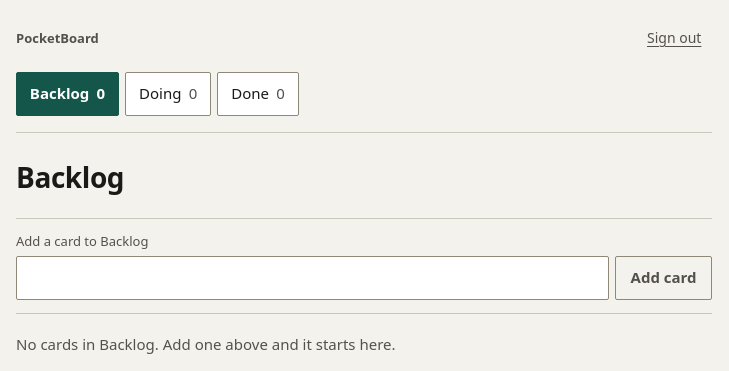
Test case: AuthGate › sends the CSRF token when signing out and re-checks the session
Click the button "Sign out" at (674, 38), box [636,16,712,60]
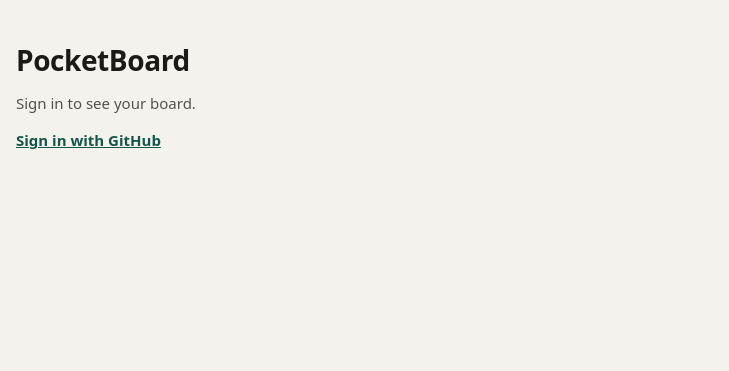
Expected: the link "Sign in with GitHub" is shown, [16,130,161,152]
